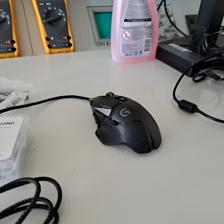mouse: (86, 90, 162, 156)
